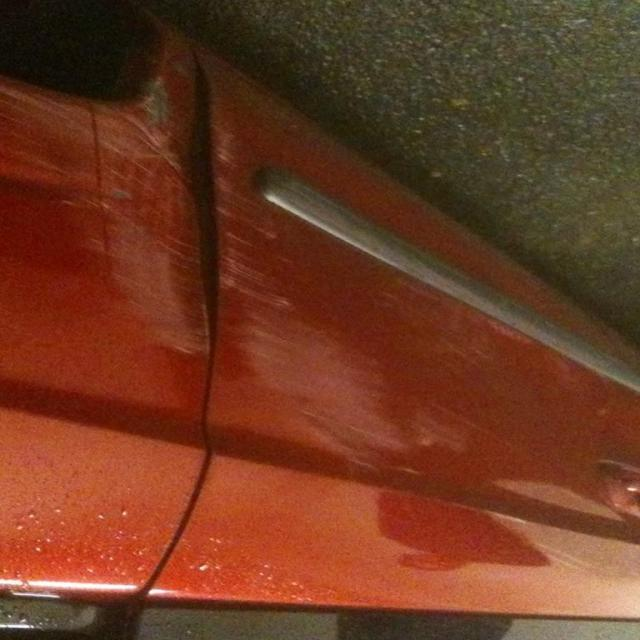scratch: (124, 68, 451, 476)
